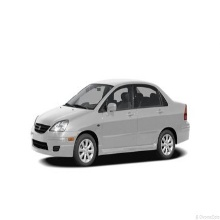no damage: (30, 78, 191, 167)
